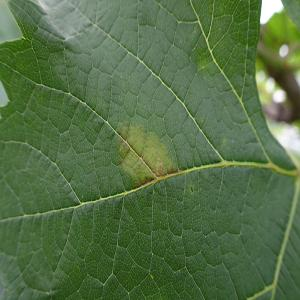Folha: (1, 0, 298, 299)
Fungo: (114, 118, 180, 192), (156, 163, 164, 176), (190, 185, 193, 192)
